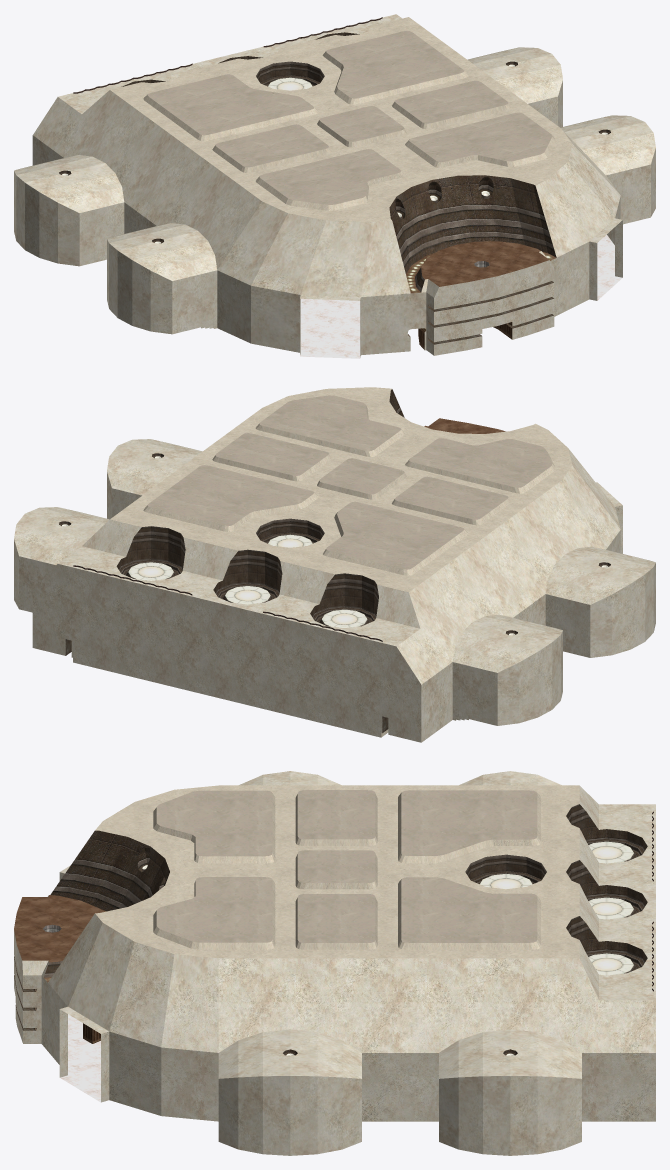
The model's file is ply_tato_cantina_s01_r2_cantina_mesh_r2.fbx.
3 views of the same model, one above another, from view 1: azimuth 30°, elevation 25°; view 2: azimuth 150°, elevation 25°; view 3: azimuth 270°, elevation 25° (orthographic). The views are drawn at different scales.
Parts seen in each view (by area): view 1: mesh_node; view 2: mesh_node; view 3: mesh_node.
Part boxes in pixels (x1,y1,x2,y2): mesh_node: [14, 14, 655, 358]; mesh_node: [14, 387, 655, 742]; mesh_node: [14, 771, 655, 1155].
Size of the model in its own units: 28.57 by 7.23 by 25.43.
